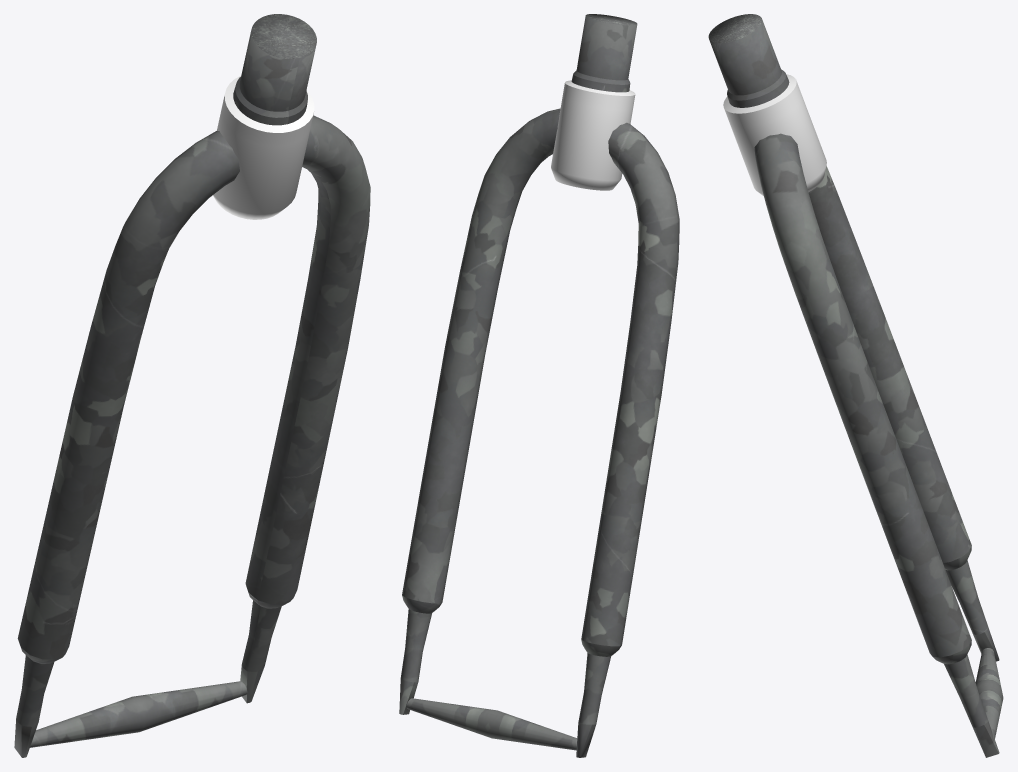
Rendered from Garfo padrao.glb.
The picture shows the model from 3 angles, left to right: view 1: azimuth 30°, elevation 25°; view 2: azimuth 150°, elevation 25°; view 3: azimuth 270°, elevation 25°; orthographic projection. The views are drawn at different scales.
Parts seen in each view (by area): view 1: Garfo; view 2: Garfo; view 3: Garfo.
Part boxes in pixels (x1,y1,x2,y2): Garfo: [14, 14, 370, 757]; Garfo: [399, 14, 679, 757]; Garfo: [708, 14, 1003, 757].
Size of the model in its own units: 0.1806 by 0.5135 by 0.1985.
2 materials, 1 textured.
